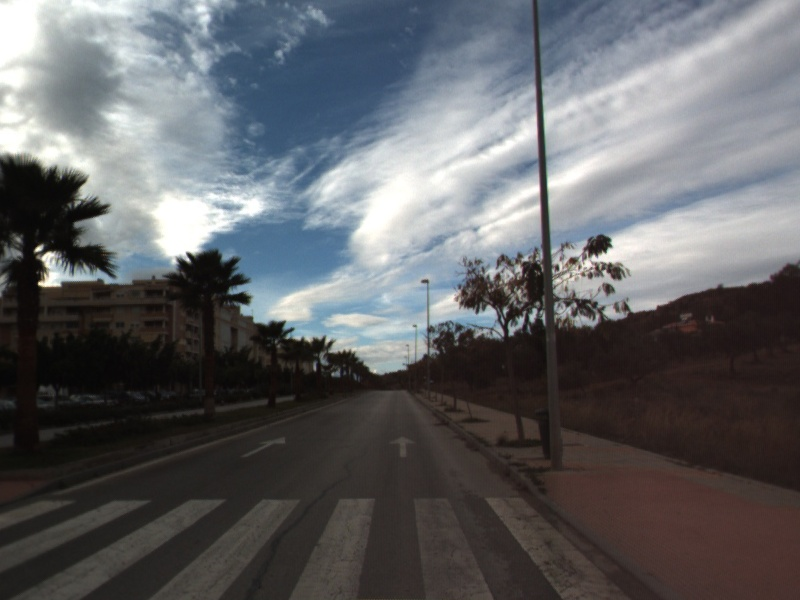STRAIGHT: (238, 434, 287, 459), (388, 433, 418, 459)
